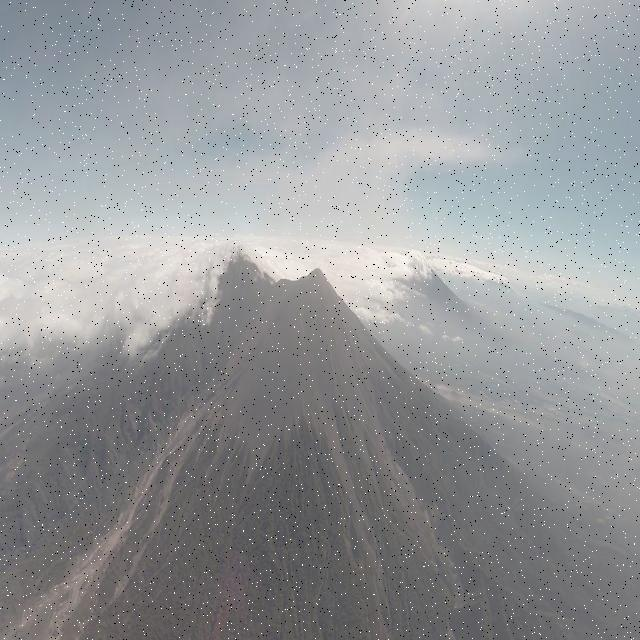Summit: (295, 264, 340, 298)
